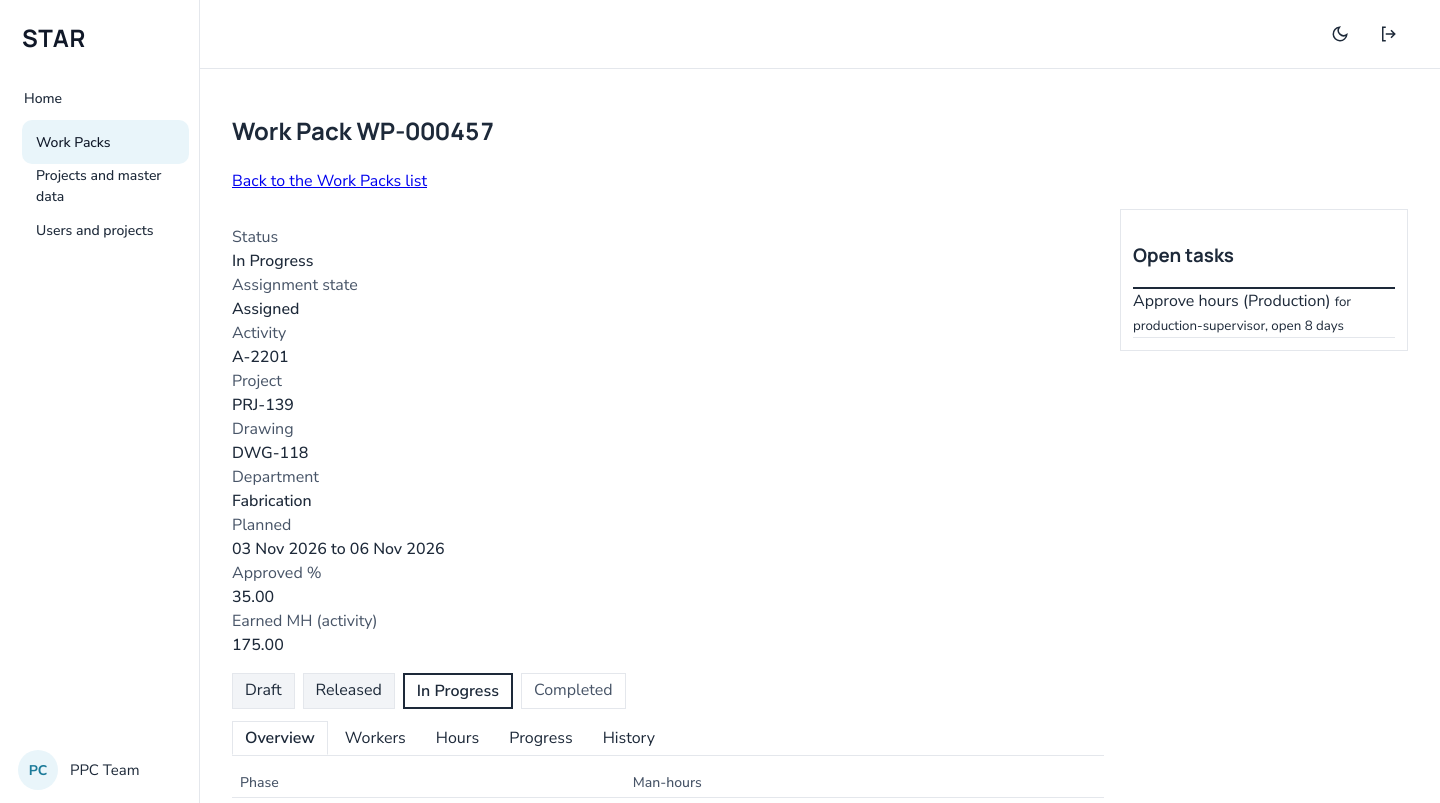
it: WorkPackDetailPage › BPA73_progressTabShowsLockedWeek
Check: the element showing "Overview Workers Hours Progress History" is shown, box [232,721,1104,756]
Click the tab "Progress".
click(541, 738)  # box [496,721,586,755]
(page scrolled)
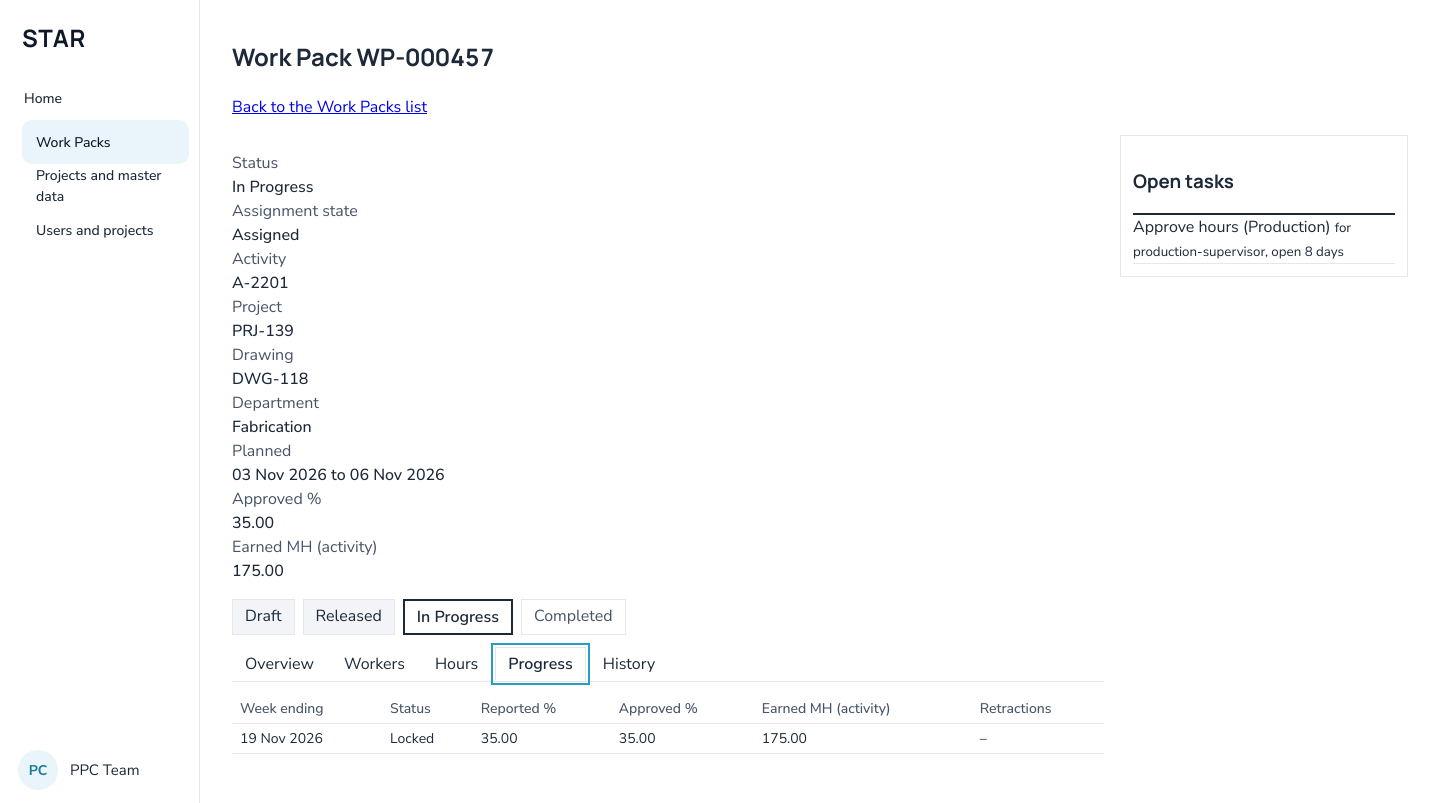
Check: the row "19 Nov 2026 Locked 35.00 35.00 175.00 –" is shown, box [232,723,1104,753]
